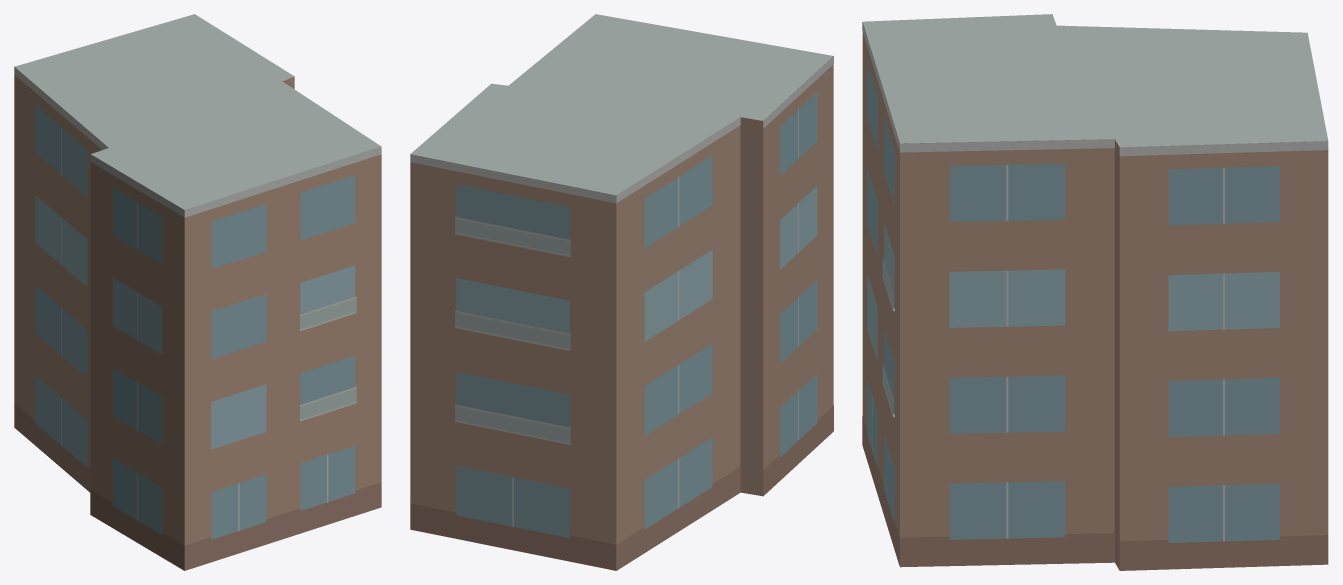
File: survey-upis-32961104.glb
3 views of the same model, side by side, from view 1: azimuth 30°, elevation 25°; view 2: azimuth 150°, elevation 25°; view 3: azimuth 270°, elevation 25° (orthographic). The views are drawn at different scales.
Visible parts, largest first — view 1: survey-upis-32961104.tmp; view 2: survey-upis-32961104.tmp; view 3: survey-upis-32961104.tmp.
Part boxes in pixels (<box>): survey-upis-32961104.tmp: <box>14,14,381,570</box>; survey-upis-32961104.tmp: <box>410,14,833,570</box>; survey-upis-32961104.tmp: <box>862,14,1328,570</box>.
Size of the model in its own units: 7.77 by 11.5 by 11.47.
